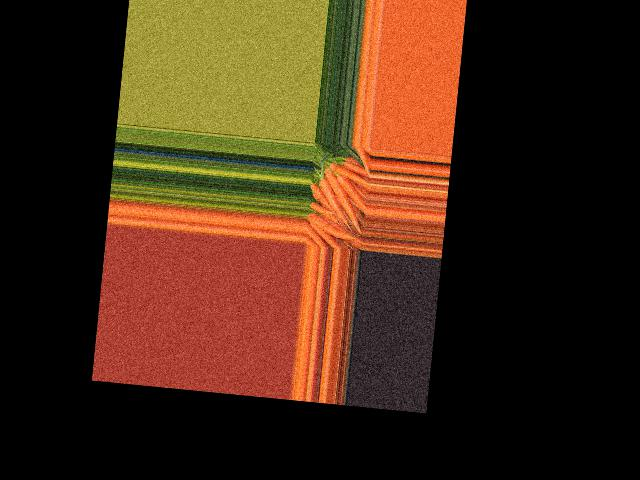carrot: (334, 174, 370, 214)
